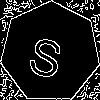S: (25, 27, 69, 80)
